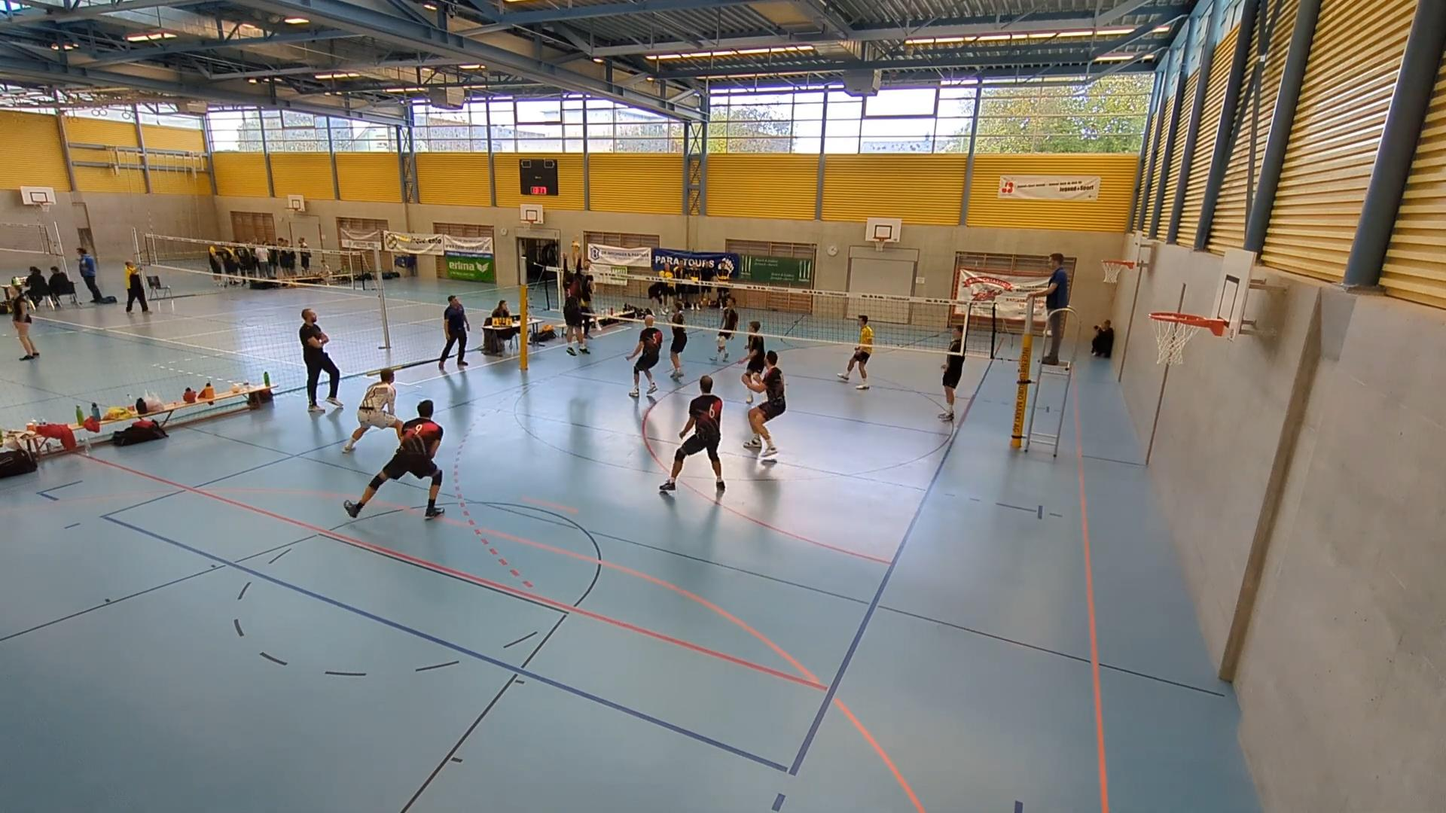attacco: (564, 239, 600, 345)
muro: (560, 241, 593, 361)
